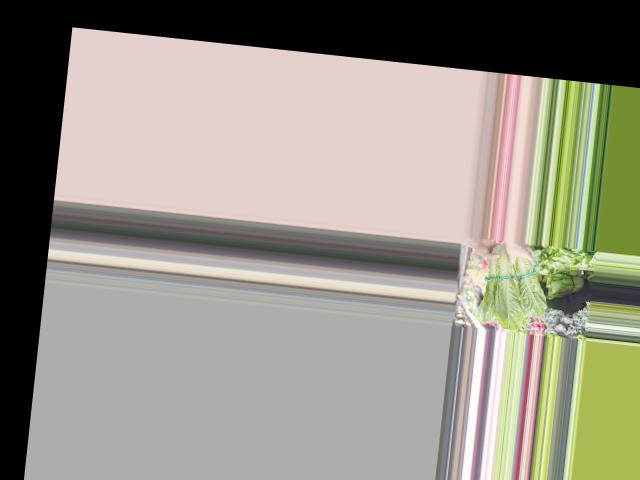lettuce: (478, 238, 554, 329)
